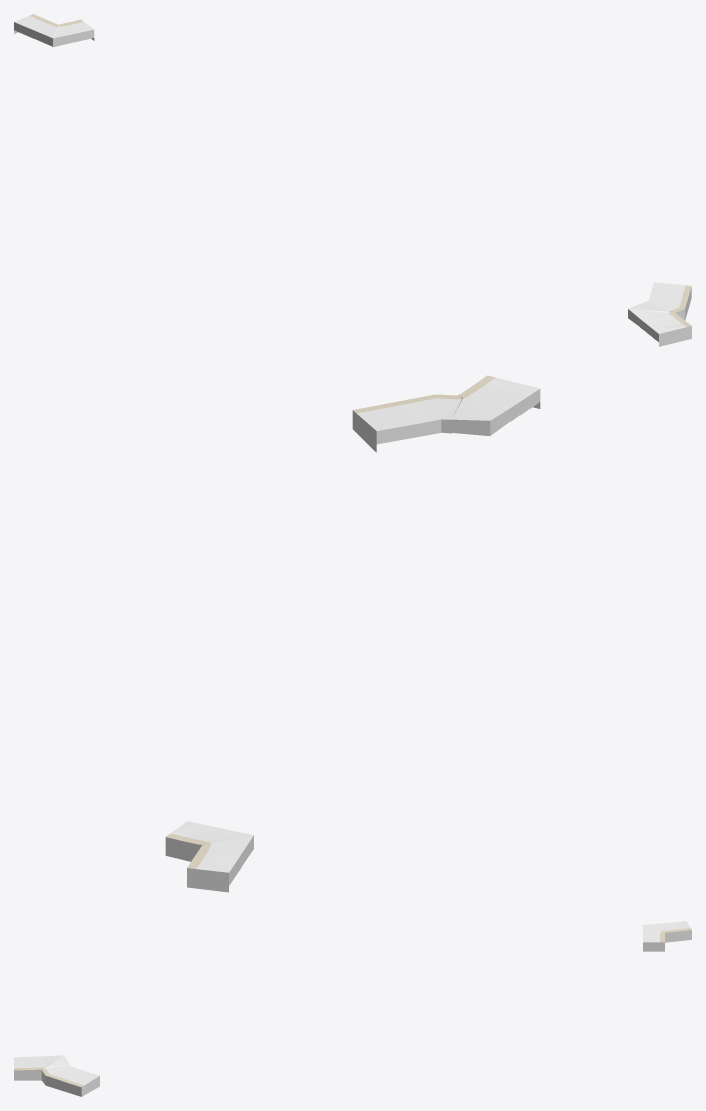
Rendered from SM_BM_BC_Works_0_2.glb.
3 views of the same model, one above another, from view 1: azimuth 30°, elevation 25°; view 2: azimuth 150°, elevation 25°; view 3: azimuth 270°, elevation 25° (orthographic). The views are drawn at different scales.
Parts seen in each view (by area): view 1: SM_BM_BC_Works_0_2; view 2: SM_BM_BC_Works_0_2; view 3: SM_BM_BC_Works_0_2.
Part boxes in pixels (<box>): SM_BM_BC_Works_0_2: <box>14,14,691,346</box>; SM_BM_BC_Works_0_2: <box>165,375,540,892</box>; SM_BM_BC_Works_0_2: <box>14,921,691,1096</box>.
Size of the model in its own units: 22.82 by 5.34 by 55.64.
